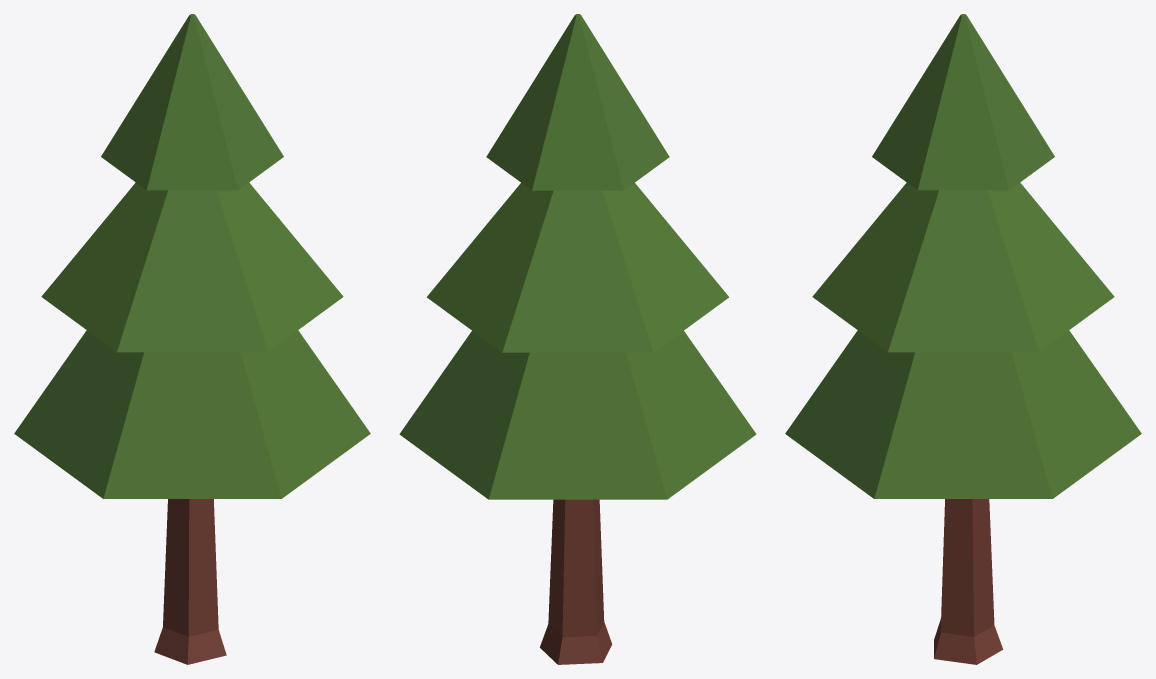
The model's file is Pinetree1.fbx.
3 renders of one model, left to right at view 1: azimuth 30°, elevation 25°; view 2: azimuth 150°, elevation 25°; view 3: azimuth 270°, elevation 25°, orthographic.
Parts seen in each view (by area): view 1: Circle.004; view 2: Circle.004; view 3: Circle.004.
Boxes of the visible parts, x1=… form: Circle.004: x1=14, y1=14, x2=370, y2=664; Circle.004: x1=399, y1=14, x2=756, y2=664; Circle.004: x1=785, y1=14, x2=1141, y2=664.
Size of the model in its own units: 191 by 433 by 221.
